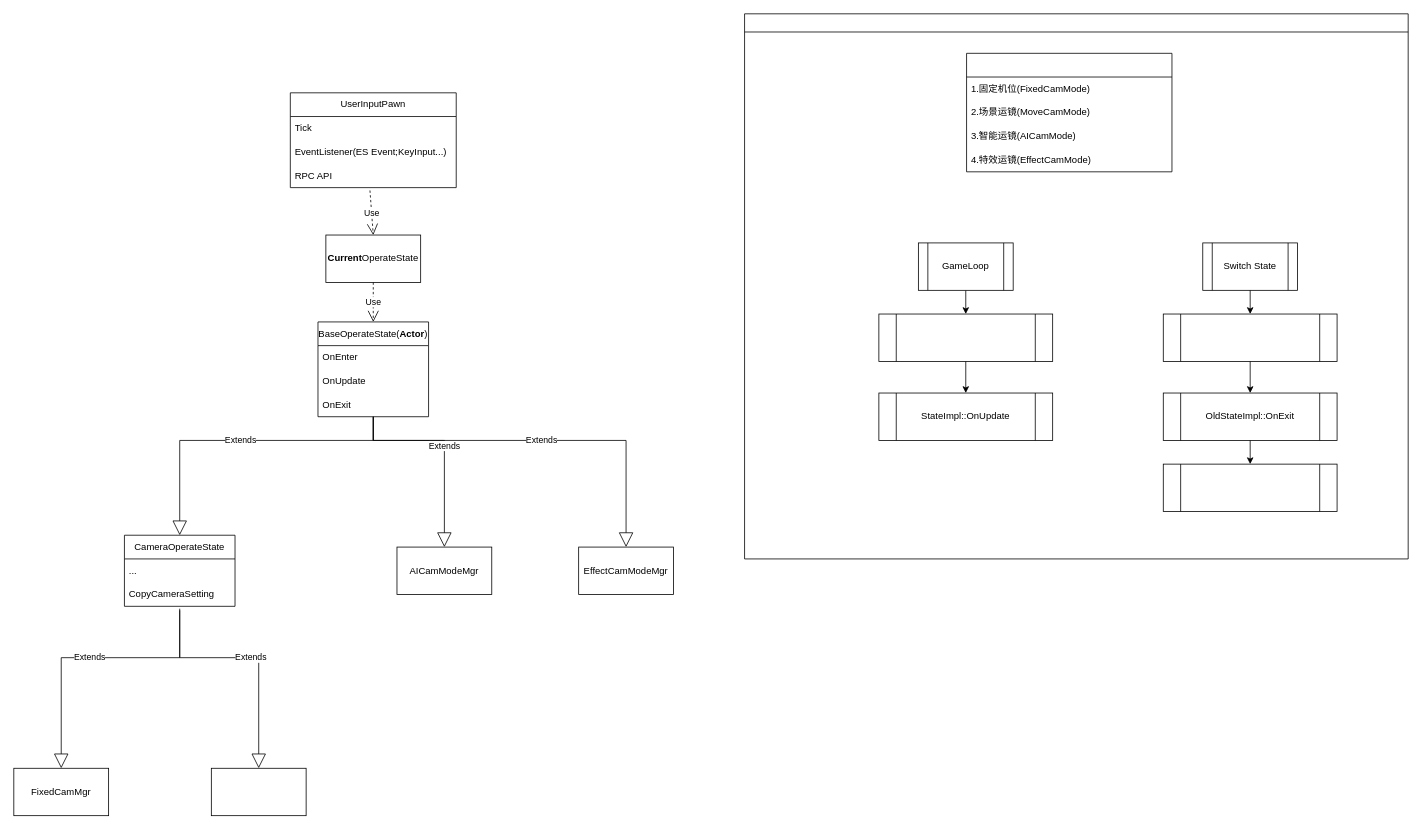
Some shapes in this 1422 by 830 pixel diagram are drawn without their labels. The shapes that lost their labels are listed below. From the top down, each one's box as (x1, y1, x2, y2) in pixels, then its label:
(966, 53, 1172, 172): OperateState交互模式
(744, 13, 1408, 559): Usage
(878, 313, 1053, 361): UserInputPawn::Tick
(1162, 313, 1337, 361): UserInputPawn::Switch
(1162, 463, 1337, 512): NewStateImpl::OnEnter
(211, 767, 306, 816): MoveCameModeMgr
